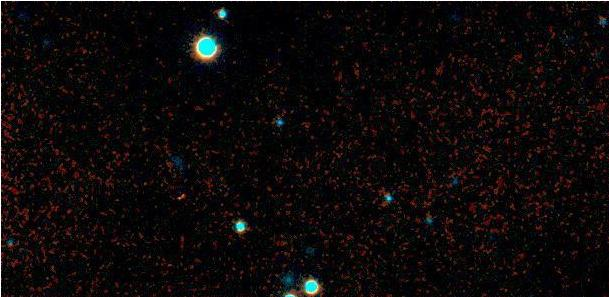star: (166, 181, 196, 211)
